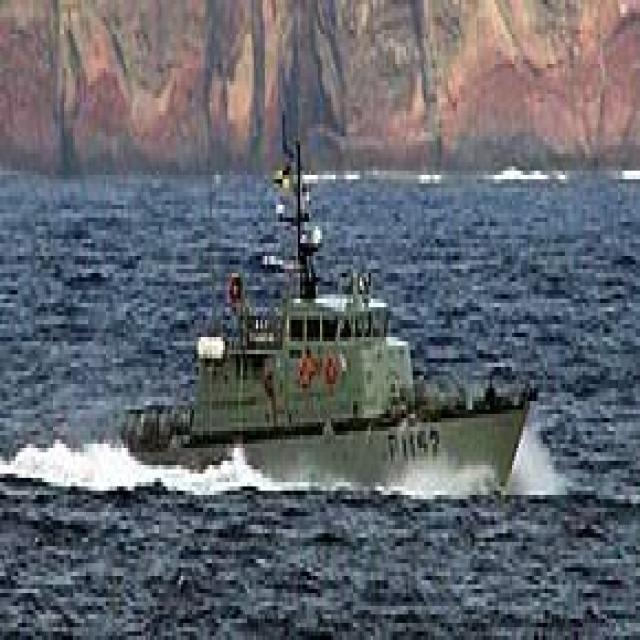navalvessels: (123, 188, 525, 491)
